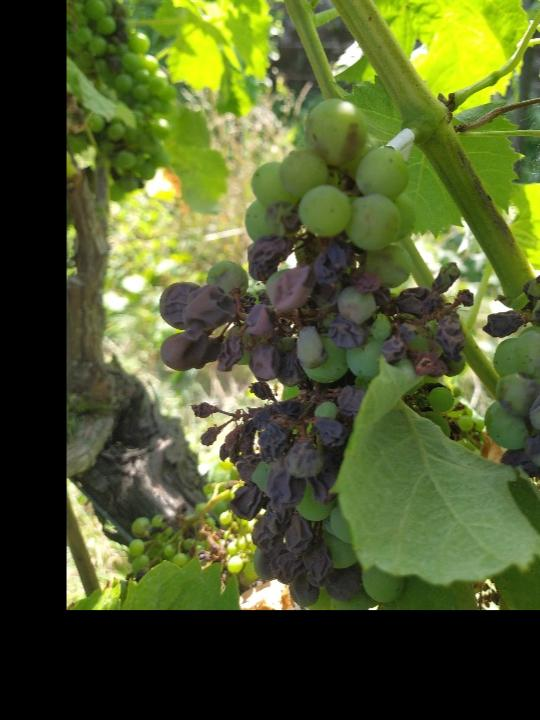grape: (154, 93, 477, 607), (71, 0, 173, 194)
